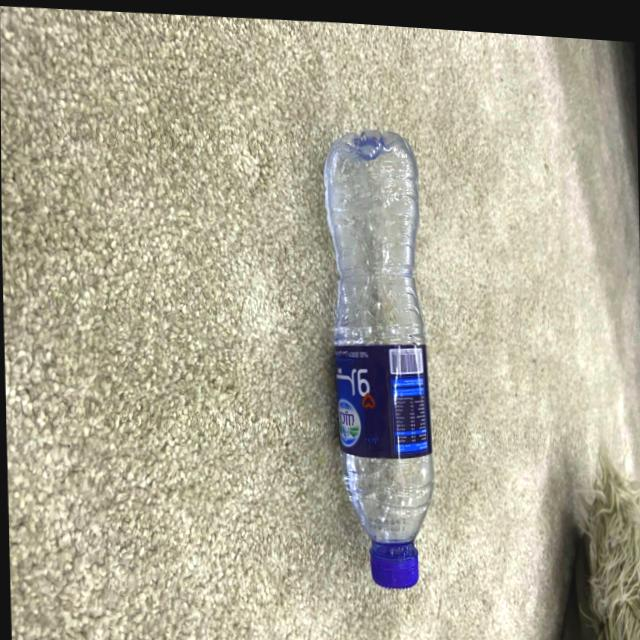anorganik: (299, 117, 447, 615)
